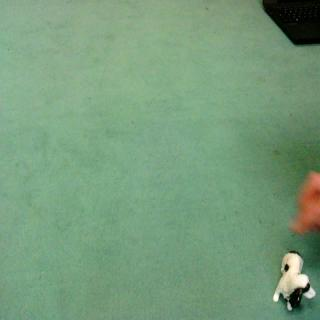dog: (270, 249, 318, 316)
